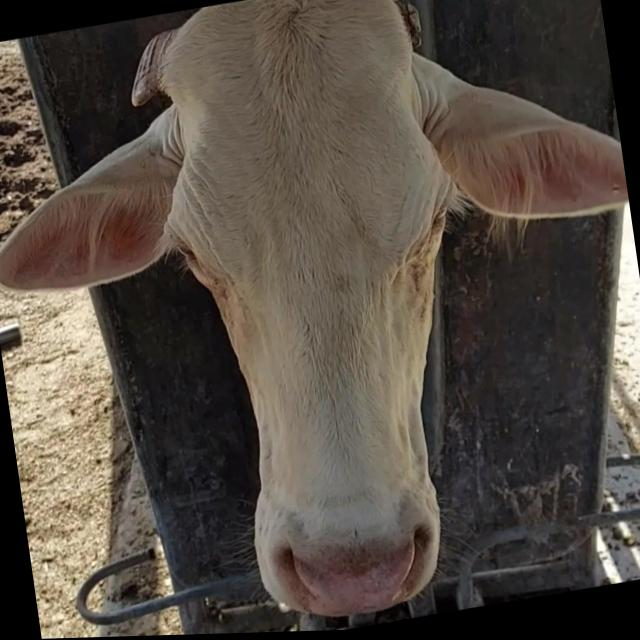cowFace: (140, 0, 503, 633)
